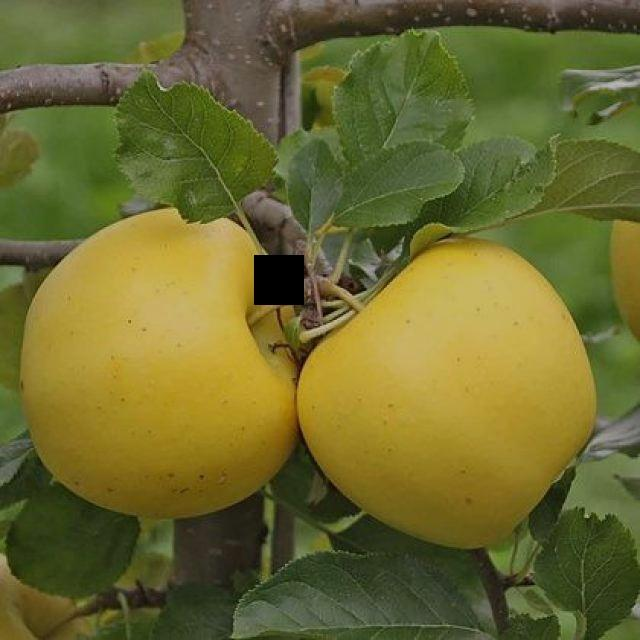green apple: (17, 208, 302, 538), (304, 230, 599, 547)
